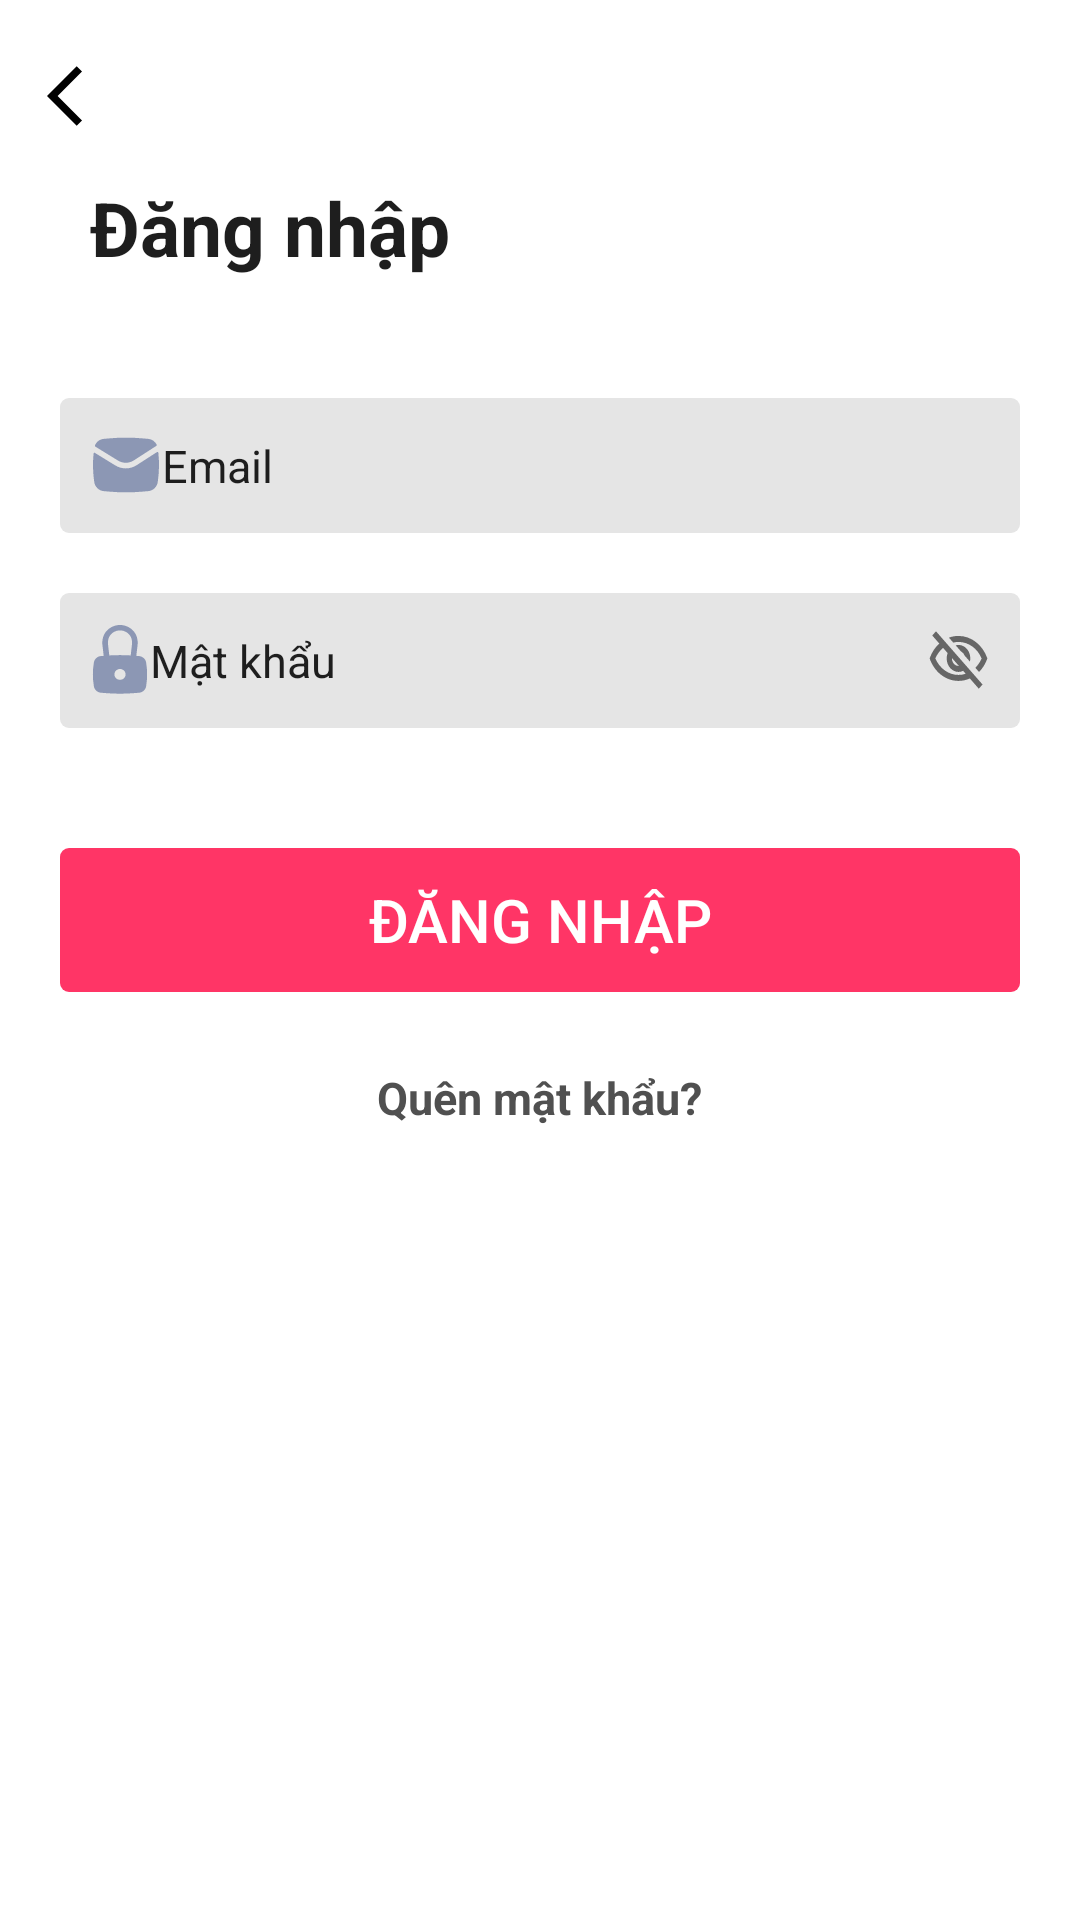

Named icons in this screenshot (1080×1920) and their bounding boxes, [x1,y1,x2,y2]:
back arrow: [47,66,82,126]
